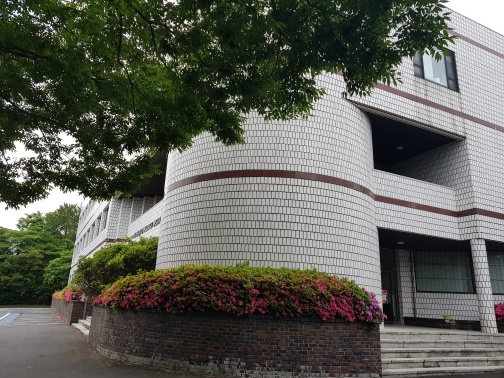Foreign Language Institute: (67, 88, 503, 358)
